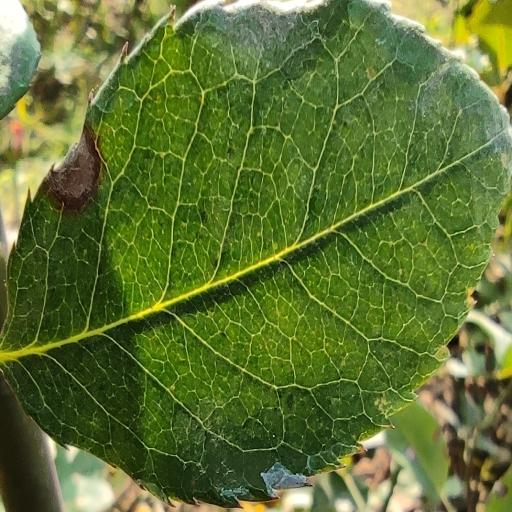black_spot: (0, 0, 512, 506)
